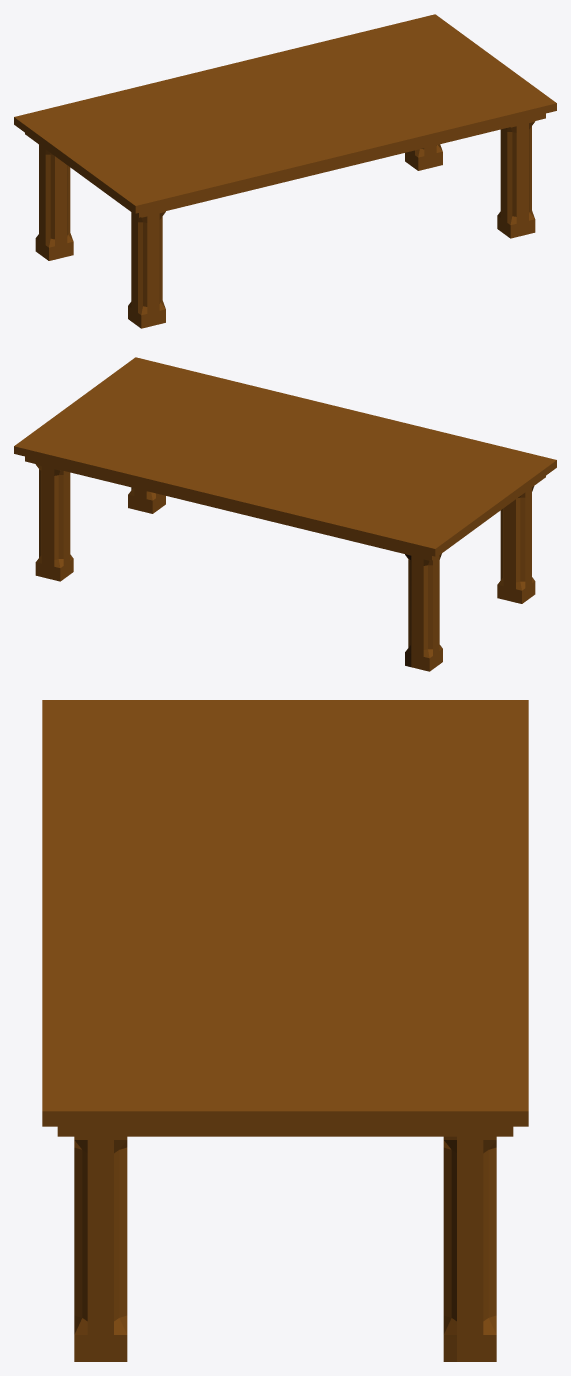
Rendered from coffee_table.glb.
3 views of the same model, one above another, from view 1: azimuth 30°, elevation 25°; view 2: azimuth 150°, elevation 25°; view 3: azimuth 270°, elevation 25° (orthographic). The views are drawn at different scales.
Visible parts, largest first — view 1: Cube_0; view 2: Cube_0; view 3: Cube_0.
Part boxes in pixels (x1=…): Cube_0: x1=14, y1=14, x2=556, y2=328; Cube_0: x1=14, y1=357, x2=556, y2=671; Cube_0: x1=42, y1=700, x2=528, y2=1361.
Size of the model in its own units: 5 by 1.5 by 2.5.
Materials: 1 (1 with a texture image).
